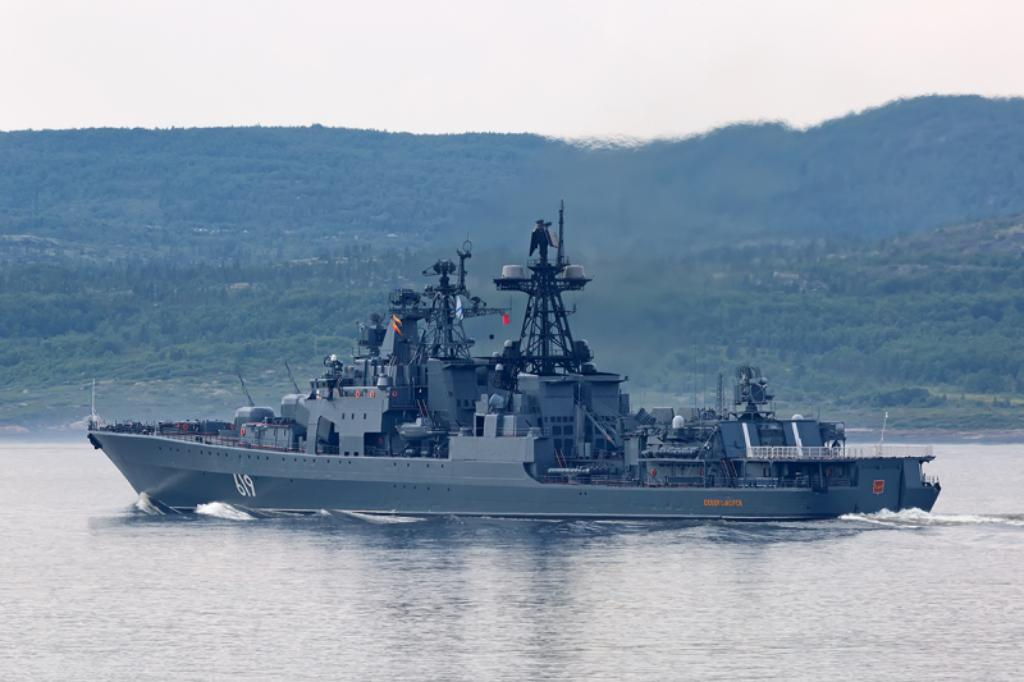Warship: (81, 194, 951, 528)
